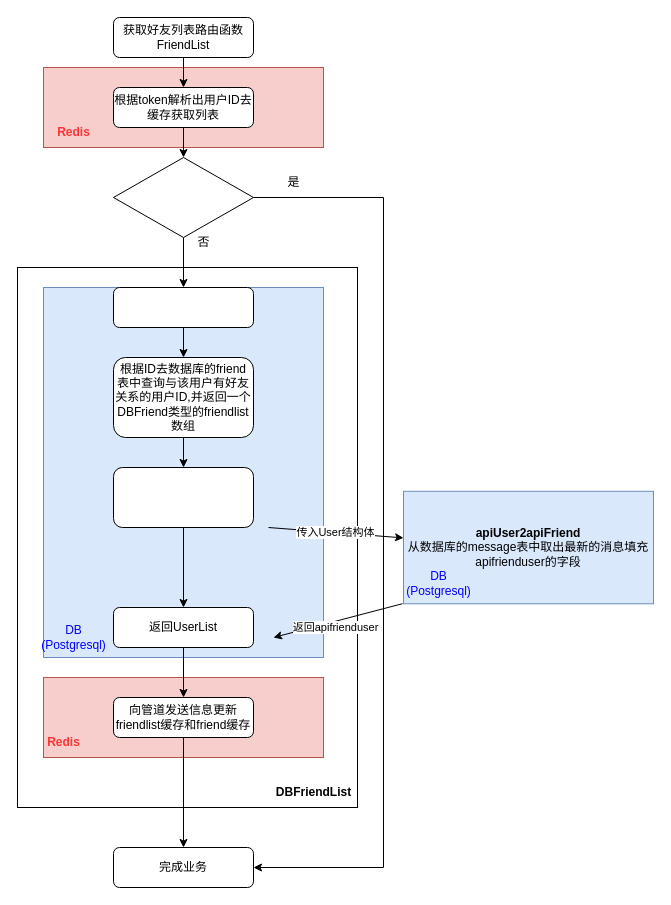
Image size: 671x905. Some labels were removed from this diagram. Each missing label, with the centre of its shape:
"根据请求传来的token构建解析出请求用户的ID" goes at point 183,307.
"缓存是否命中？" goes at point 183,197.
"遍历数组每个成员,根据ID去数据库的user表中获取用户信息构建DBUser结构" goes at point 183,497.
